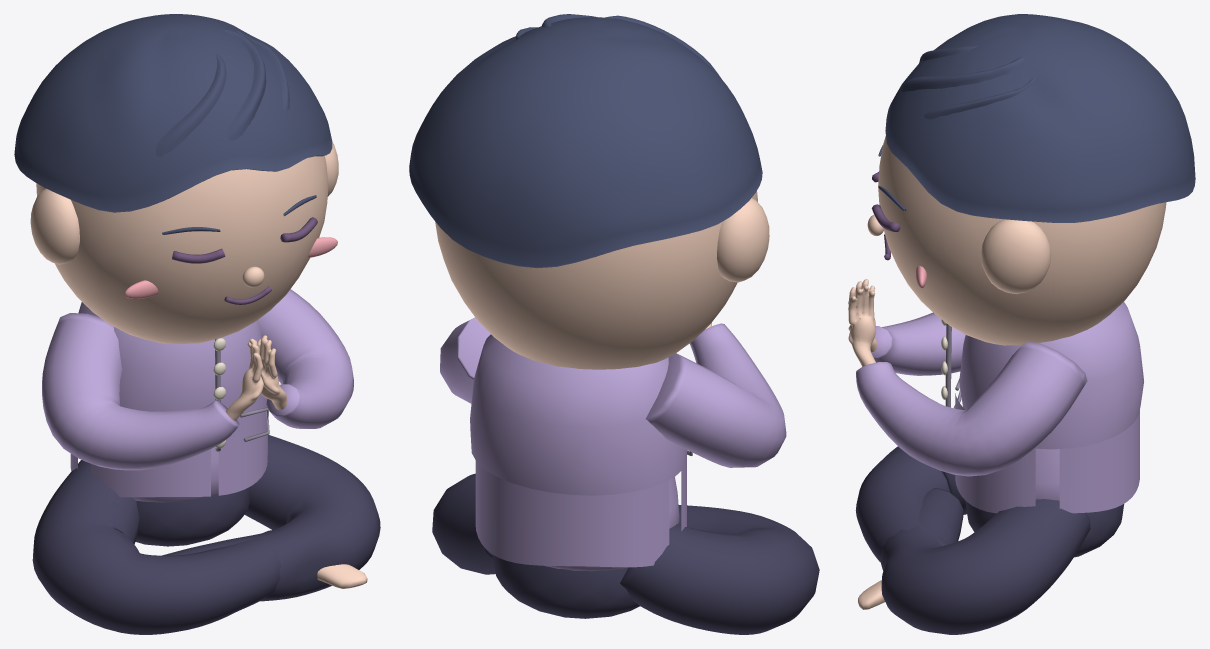
Rendered from meditator_male_cross_prayer_p06c.glb.
3 views of the same model, side by side, from view 1: azimuth 30°, elevation 25°; view 2: azimuth 150°, elevation 25°; view 3: azimuth 270°, elevation 25° (orthographic). The views are drawn at different scales.
Parts seen in each view (by area): view 1: hair_neat_male_scalp_coverage_p06c_object, ao_ba_ba_pants_SeatRoot_object, ao_ba_ba_top_UpperBodyBreath_object, skin_rose_cream_UpperBodyBreath_object, eyes_mauve_UpperBodyBreath_object, skin_rose_cream_SeatRoot_ankle_instep_toes_p05e_object, skin_blush_UpperBodyBreath_object; view 2: hair_neat_male_scalp_coverage_p06c_object, ao_ba_ba_top_UpperBodyBreath_object, skin_rose_cream_UpperBodyBreath_object, ao_ba_ba_pants_SeatRoot_object; view 3: hair_neat_male_scalp_coverage_p06c_object, ao_ba_ba_top_UpperBodyBreath_object, skin_rose_cream_UpperBodyBreath_object, ao_ba_ba_pants_SeatRoot_object, ao_ba_ba_placket_UpperBodyBreath_object, eyes_mauve_UpperBodyBreath_object, skin_rose_cream_SeatRoot_ankle_instep_toes_p05e_object.
Boxes of the visible parts, x1,y1,x2,y2 form: hair_neat_male_scalp_coverage_p06c_object: (14,14,332,234); ao_ba_ba_pants_SeatRoot_object: (32,435,380,634); ao_ba_ba_top_UpperBodyBreath_object: (42,289,353,502); skin_rose_cream_UpperBodyBreath_object: (30,142,338,420); eyes_mauve_UpperBodyBreath_object: (172,217,317,304); skin_rose_cream_SeatRoot_ankle_instep_toes_p05e_object: (317,564,367,588); skin_blush_UpperBodyBreath_object: (124,237,337,299); hair_neat_male_scalp_coverage_p06c_object: (409,14,762,268); ao_ba_ba_top_UpperBodyBreath_object: (440,317,786,571); skin_rose_cream_UpperBodyBreath_object: (435,191,769,369); ao_ba_ba_pants_SeatRoot_object: (432,473,819,634); hair_neat_male_scalp_coverage_p06c_object: (878,14,1195,222); ao_ba_ba_top_UpperBodyBreath_object: (856,302,1143,513); skin_rose_cream_UpperBodyBreath_object: (848,136,1166,366); ao_ba_ba_pants_SeatRoot_object: (855,446,1124,634); ao_ba_ba_placket_UpperBodyBreath_object: (945,324,961,408); eyes_mauve_UpperBodyBreath_object: (871,172,900,260); skin_rose_cream_SeatRoot_ankle_instep_toes_p05e_object: (858,580,885,609).
Size of the model in its own units: 0.7292 by 1.16 by 0.672.
